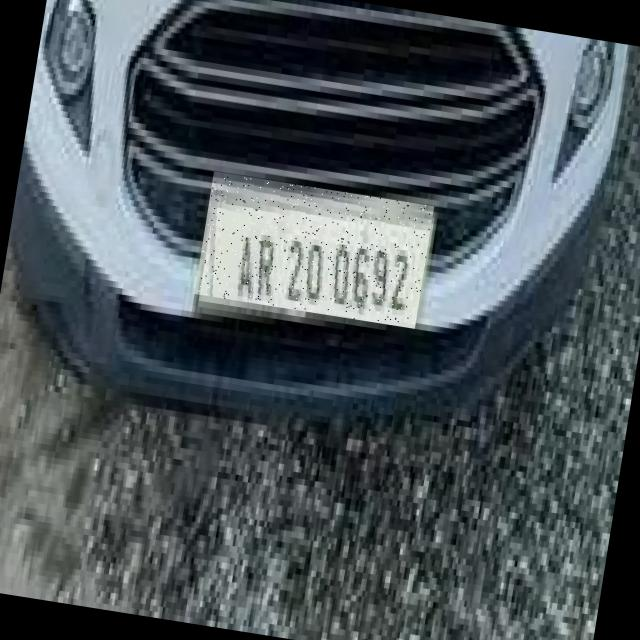Plate: (196, 173, 436, 330)
